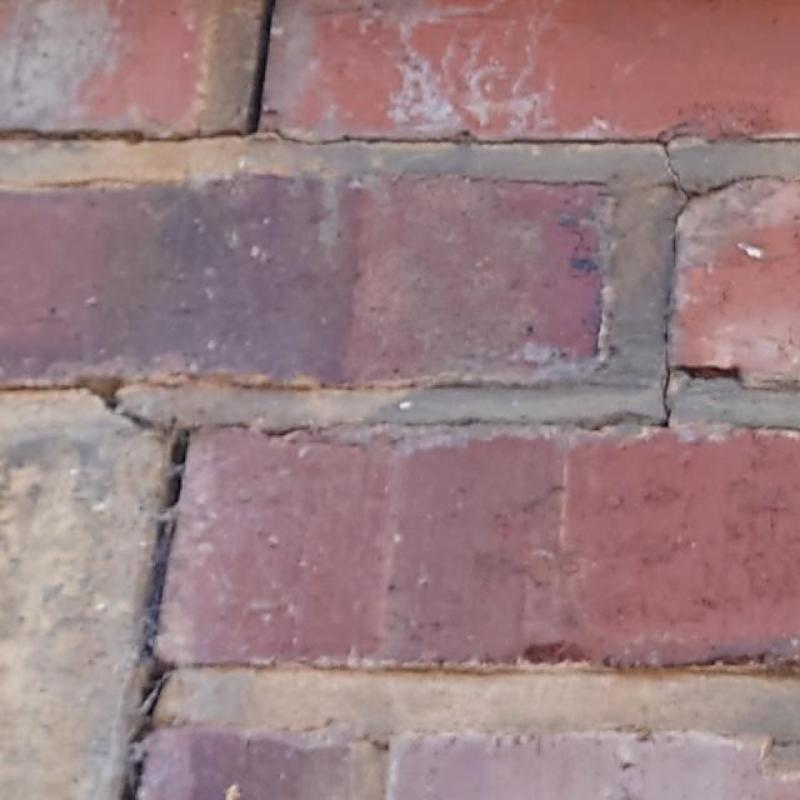crack: (0, 0, 648, 148), (0, 376, 191, 799), (188, 412, 649, 436), (648, 287, 674, 428), (648, 138, 702, 200), (699, 172, 784, 196), (671, 198, 690, 269), (676, 368, 742, 380)
